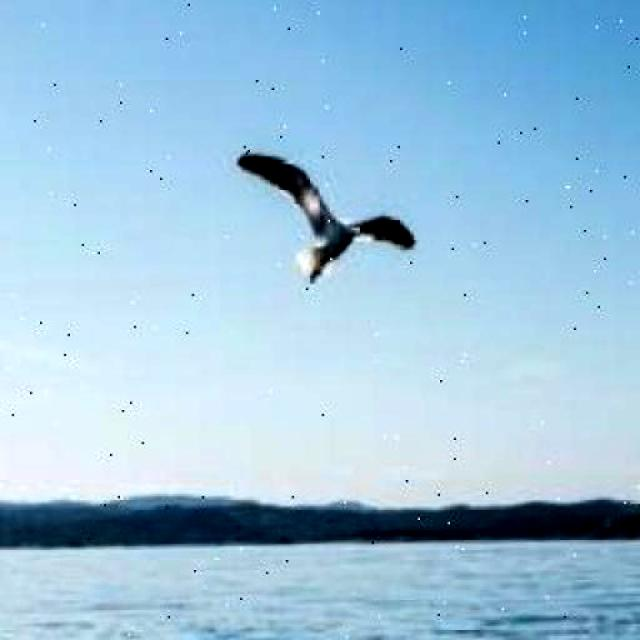airplane: (232, 144, 419, 286)
